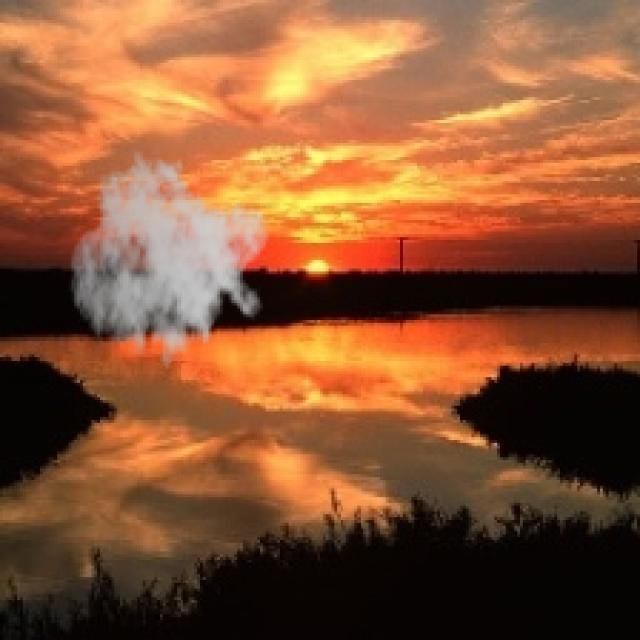smoke: (68, 148, 272, 383)
